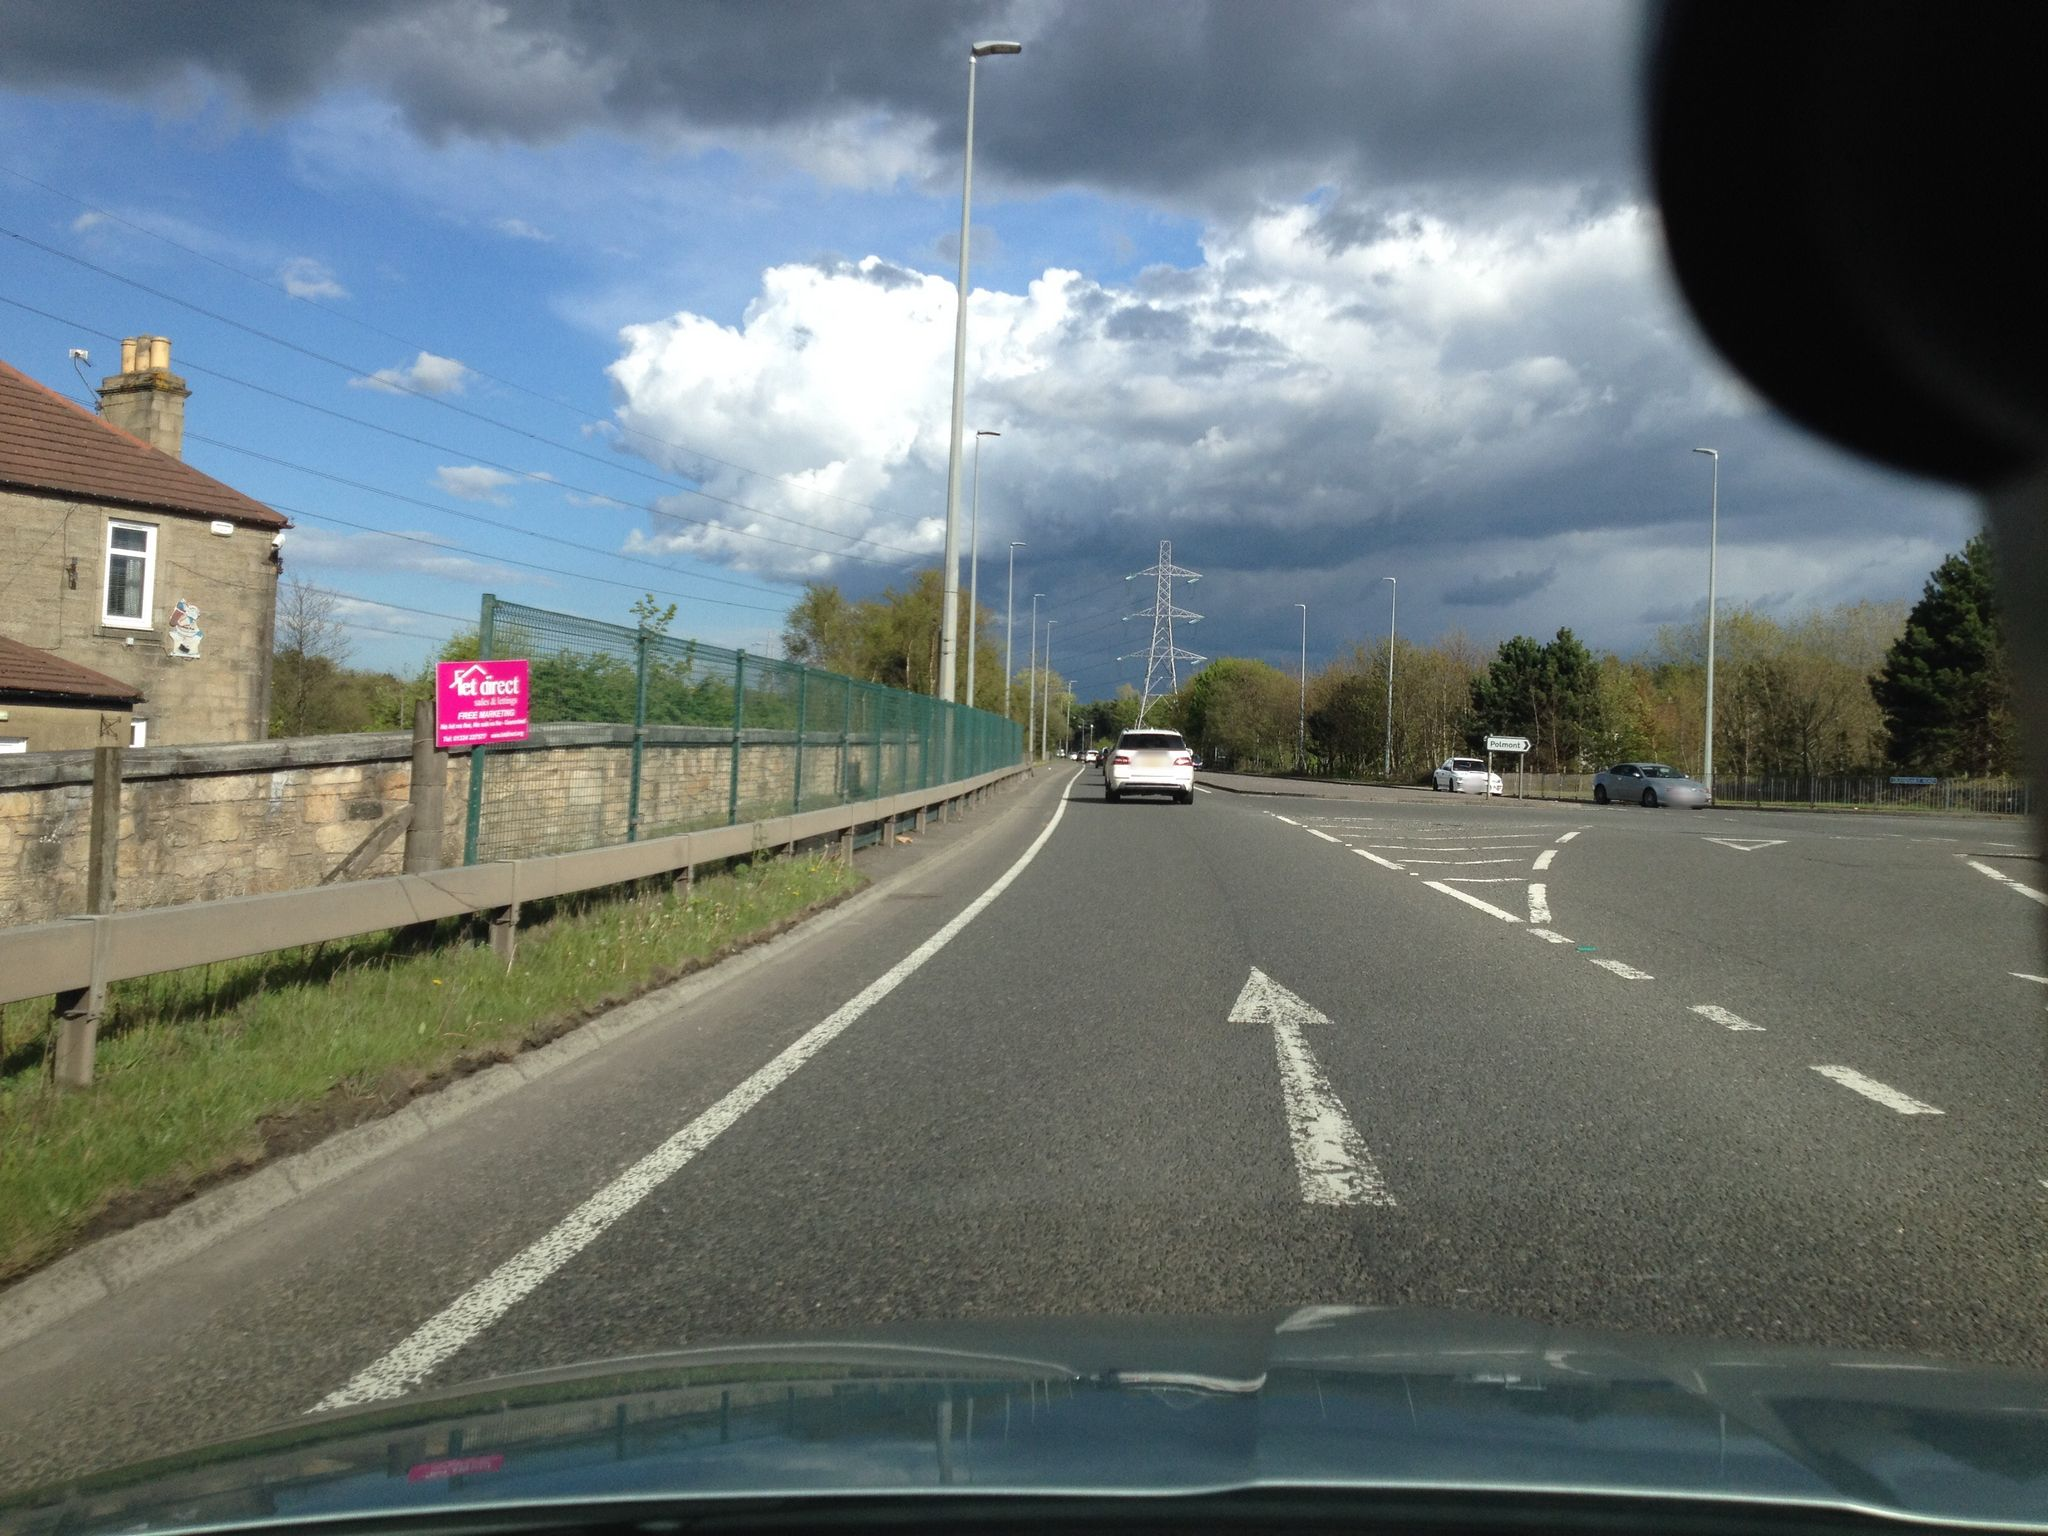car: (1108, 728, 1201, 803), (1592, 762, 1709, 808), (1432, 757, 1503, 795)
